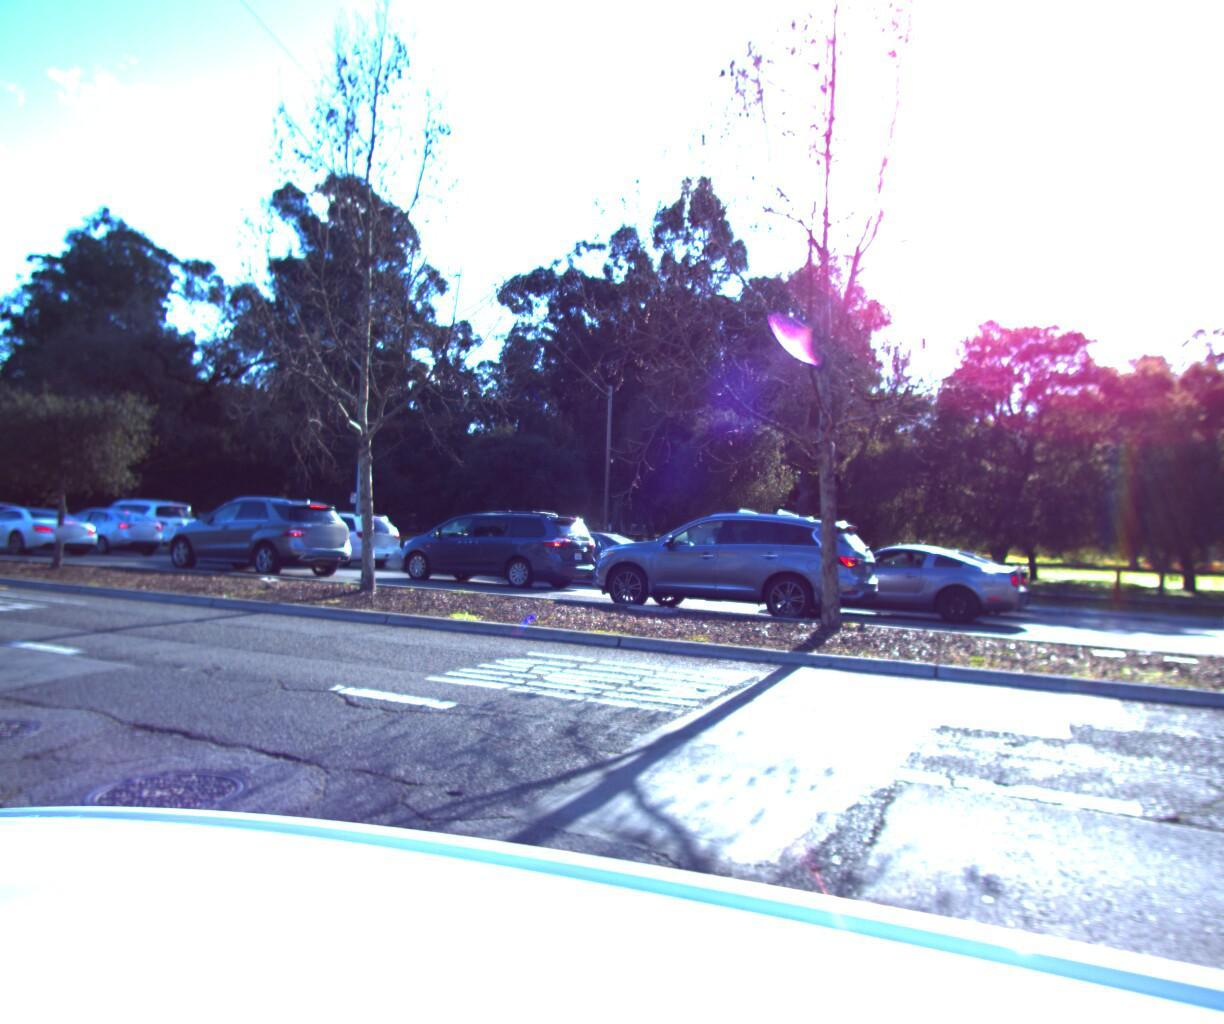car: (557, 497, 891, 631), (749, 535, 1032, 627), (378, 500, 606, 590), (147, 488, 365, 580), (819, 538, 1034, 616), (491, 523, 668, 588), (249, 502, 407, 567), (67, 490, 208, 550), (34, 499, 177, 554), (0, 498, 108, 555), (1208, 518, 1224, 722), (0, 493, 39, 537)
